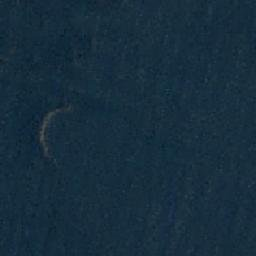debris: (40, 114, 52, 155), (52, 105, 72, 114), (50, 158, 58, 170)
